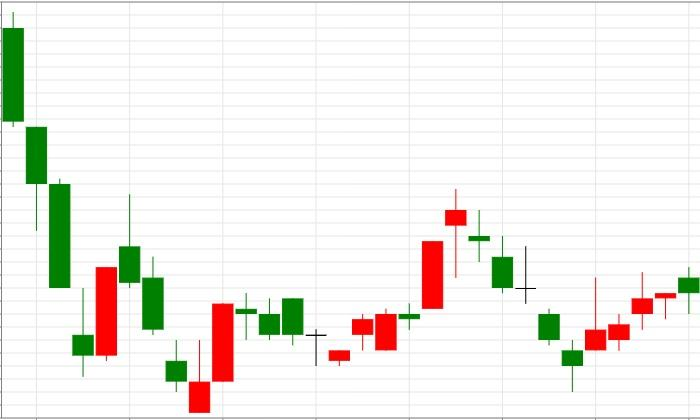morning_star_rise: (468, 209, 607, 393)
